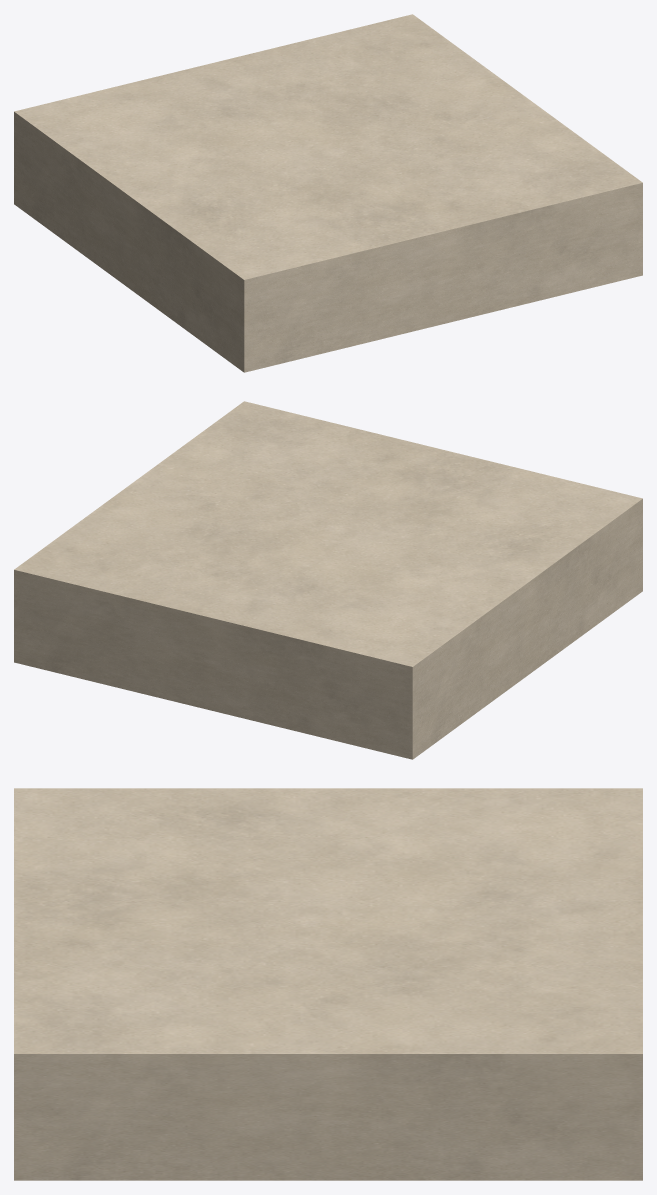
The model's file is ShiGaoMuJu_GuiZe.fbx.
3 renders of one model, top to bottom at view 1: azimuth 30°, elevation 25°; view 2: azimuth 150°, elevation 25°; view 3: azimuth 270°, elevation 25°, orthographic. The views are drawn at different scales.
Visible parts, largest first — view 1: ShiGaoMuJu_GuiZe; view 2: ShiGaoMuJu_GuiZe; view 3: ShiGaoMuJu_GuiZe.
Boxes of the visible parts, x1,y1,x2,y2 form: ShiGaoMuJu_GuiZe: [14, 14, 642, 372]; ShiGaoMuJu_GuiZe: [14, 401, 642, 759]; ShiGaoMuJu_GuiZe: [14, 788, 642, 1180].
Bounding box in the file's own units: 45 × 10 × 45.
1 material, 1 textured.
